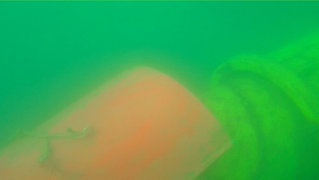leak: (1, 65, 234, 180)
pipe: (195, 31, 318, 180)
